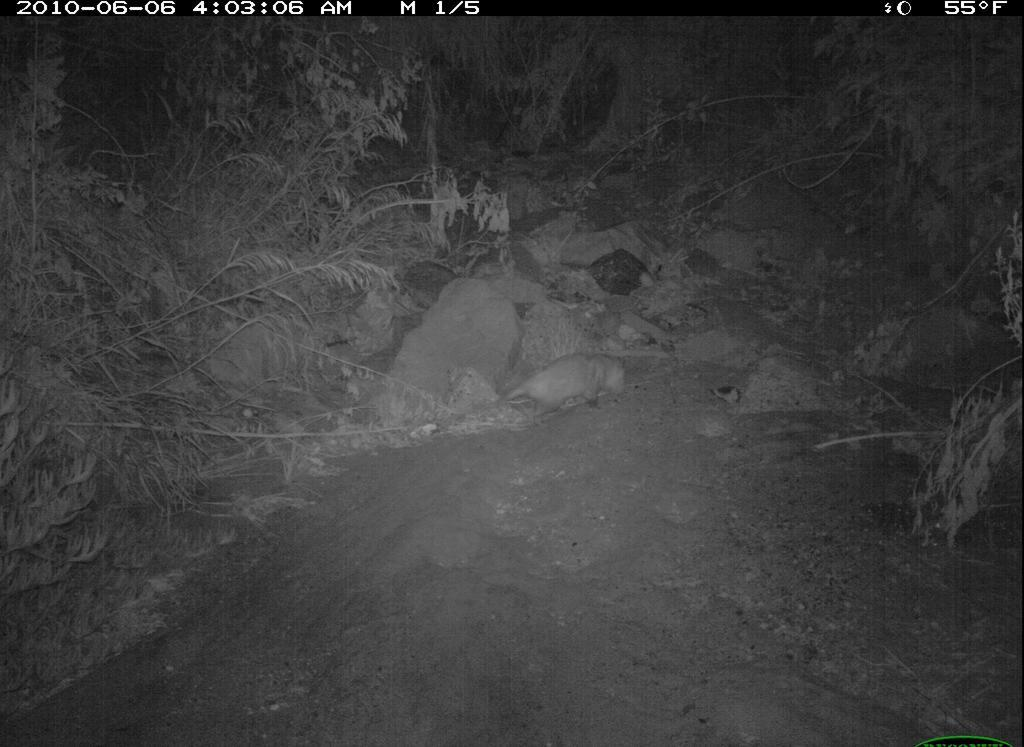opossum: (493, 345, 638, 433)
